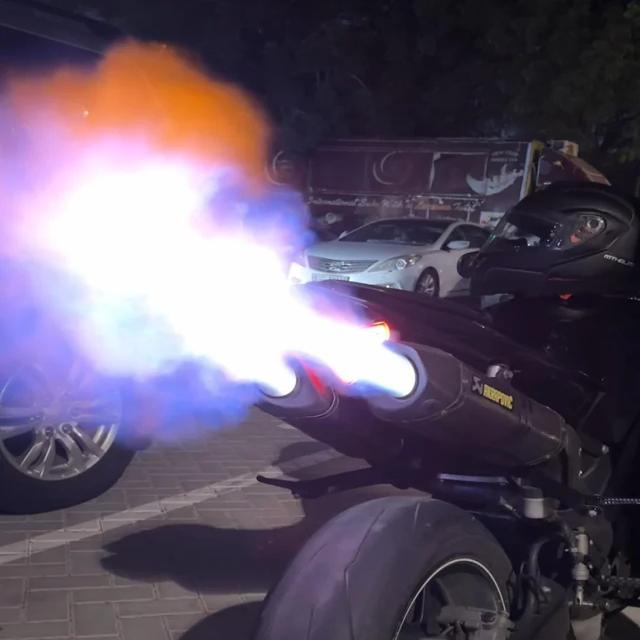fire: (0, 41, 414, 441)
